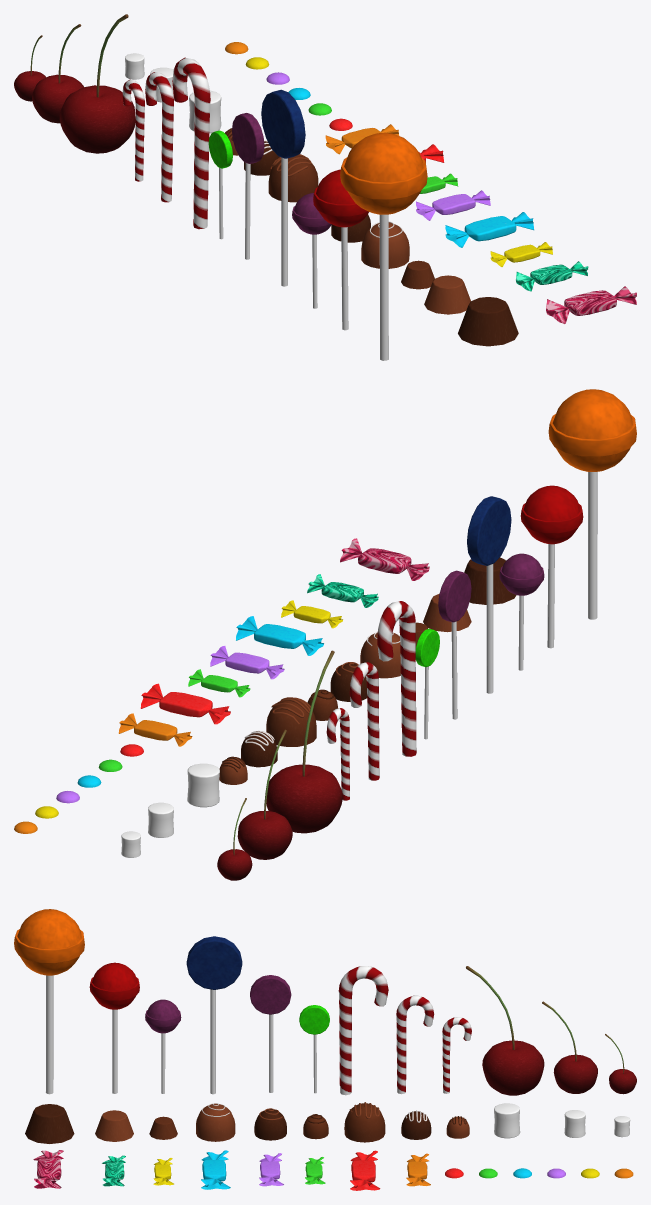
Rendered from CARAMELOS.fbx.
3 views of the same model, one above another, from view 1: azimuth 30°, elevation 25°; view 2: azimuth 150°, elevation 25°; view 3: azimuth 270°, elevation 25° (orthographic). The views are drawn at different scales.
Parts seen in each view (by area): view 1: Diorama.017, Diorama.005, Diorama.008, Diorama.006, Diorama.015, Diorama.018, Diorama.021, Diorama.014, Diorama.003, Diorama.020, Diorama.024, Diorama.007 (+16 smaller); view 2: Diorama.017, Diorama.005, Diorama.015, Diorama.008, Diorama.006, Diorama.003, Diorama.020, Diorama.021, Diorama.014, Diorama.033, Diorama.002, Diorama.024 (+18 smaller); view 3: Diorama.017, Diorama.005, Diorama.008, Diorama.006, Diorama.015, Diorama.014, Diorama.003, Diorama.018, Diorama.021, Diorama.020, Diorama.007, Diorama.033 (+20 smaller).
Part boxes in pixels (x1,y1,x2,y2): Diorama.017: (340,132,427,360); Diorama.005: (59,14,135,153); Diorama.008: (261,89,305,286); Diorama.006: (172,57,210,229); Diorama.015: (313,169,368,330); Diorama.018: (458,297,518,346); Diorama.021: (145,72,173,202); Diorama.014: (232,113,264,259); Diorama.003: (32,24,83,123); Diorama.020: (268,154,318,202); Diorama.024: (546,286,636,323); Diorama.007: (361,221,409,268); Diorama.017: (548,389,636,619); Diorama.005: (266,650,342,833); Diorama.015: (520,485,583,648); Diorama.008: (467,496,511,693); Diorama.006: (377,601,416,756); Diorama.003: (237,729,292,859); Diorama.020: (266,697,316,746); Diorama.021: (349,662,379,780); Diorama.014: (438,570,471,719); Diorama.033: (499,553,544,670); Diorama.002: (140,683,230,724); Diorama.024: (340,538,429,580); Diorama.017: (14,909,84,1094); Diorama.005: (466,966,544,1095); Diorama.008: (186,936,242,1094); Diorama.006: (338,966,388,1095); Diorama.015: (89,962,139,1093); Diorama.014: (250,975,291,1092); Diorama.003: (542,1001,597,1093); Diorama.018: (25,1104,74,1143); Diorama.021: (396,995,434,1094); Diorama.020: (344,1102,385,1142); Diorama.007: (196,1103,235,1141); Diorama.033: (145,999,181,1093).
Size of the model in its own units: 328 by 760 by 244.
2 materials, 2 textured.
